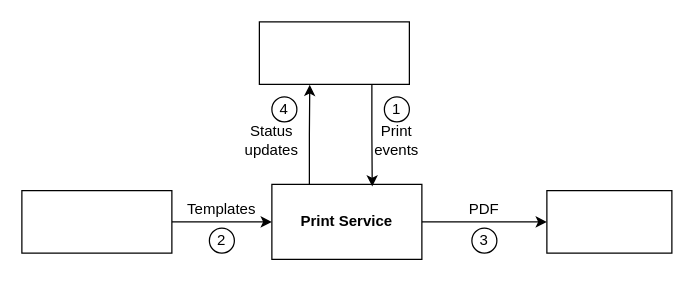
Image size: 694x281. Some labels were removed from this diagram. Each missing label, with the centre of its shape:
Datashare: the point at 609,221
Masterdata Service: the point at 96,221
Websub: the point at 333,52
